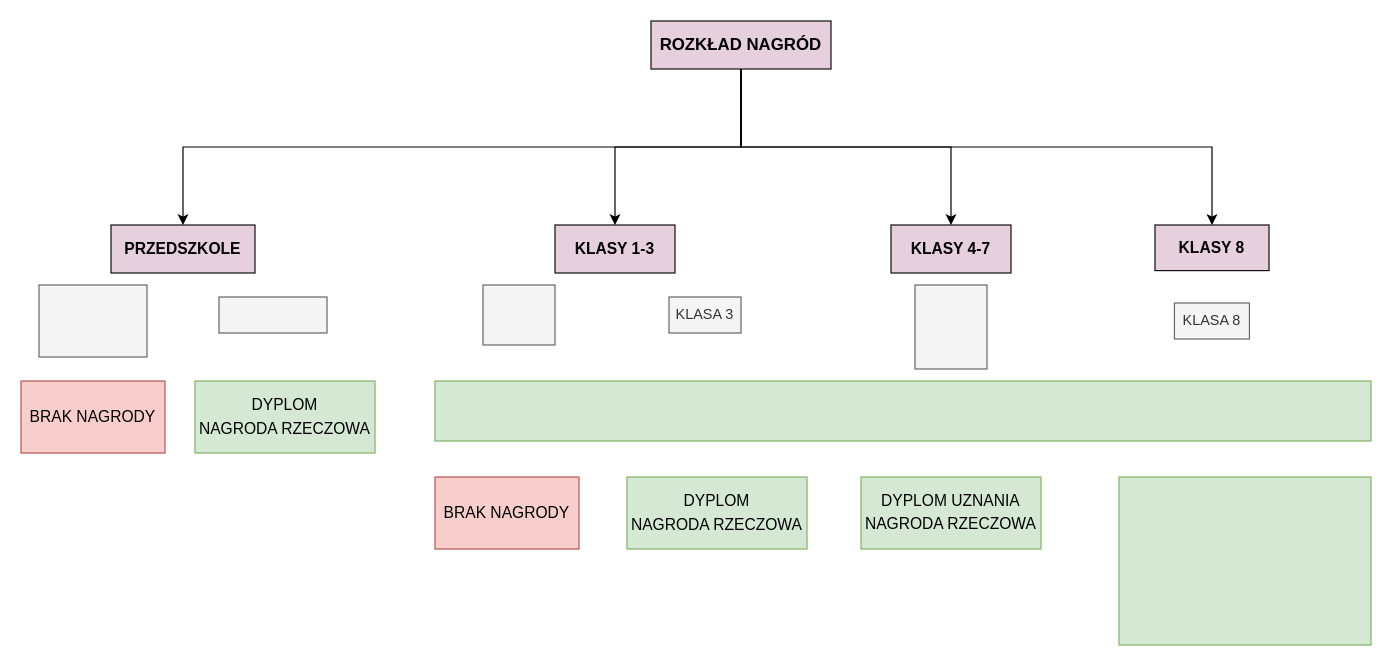
Image size: 1392x666. Some labels were removed from this diagram. Each missing label, with the box of its shape:
DYPLOM ZA 100% FERKWENCJĘ NADZWYCZAJNY DYPLOM UZNANIA: (434, 380, 1371, 441)
KLASA 1 KLASA 2: (482, 284, 555, 345)
KLASA 4 KLASA 5 KLASA 6 KLASA 7: (914, 284, 987, 369)
NAGRODY RZECZOWE STATUETKI ZŁOTA KSIĘGA ZŁOTA KSIĘGA SPORTOWCÓW: (1118, 476, 1371, 645)
SZEŚCIOLATKI: (218, 296, 327, 333)
TRZYLATKI CZTEROLATKI PIĘCIOLATKI: (38, 284, 147, 357)
